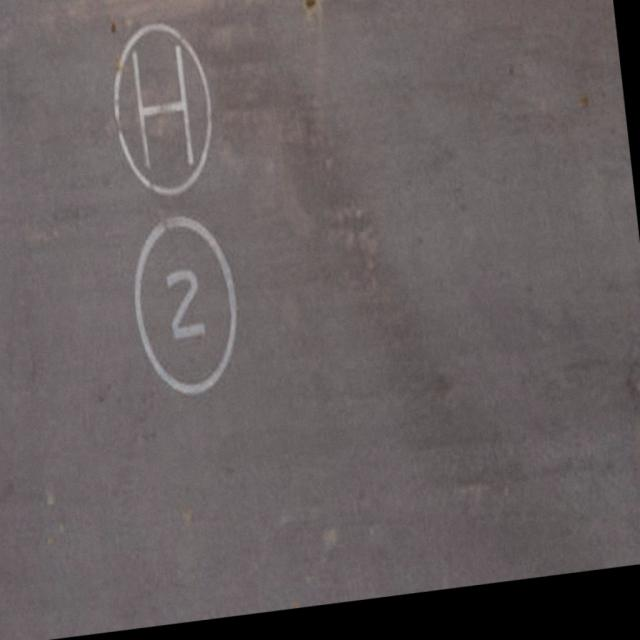helipad: (107, 16, 218, 196)
